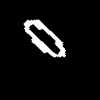chain: (24, 20, 65, 56)
